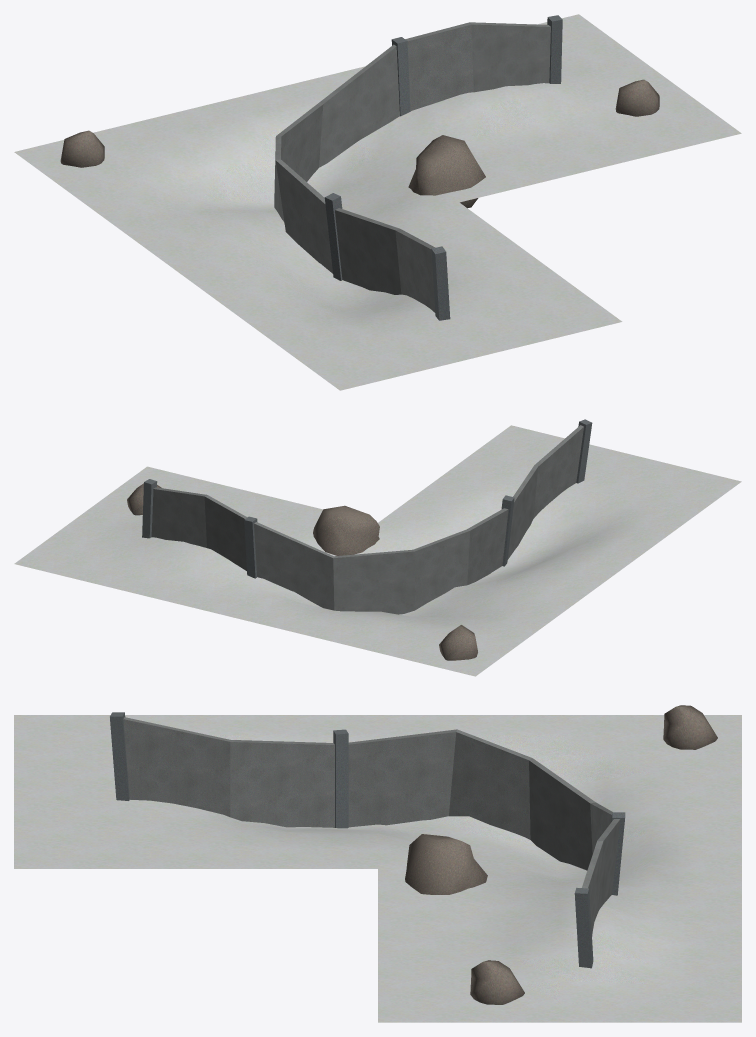
Rendered from corner_3.obj.
The picture shows the model from 3 angles, top to bottom: view 1: azimuth 30°, elevation 25°; view 2: azimuth 150°, elevation 25°; view 3: azimuth 270°, elevation 25°; orthographic projection. The views are drawn at different scales.
Parts seen in each view (by area): view 1: corner_3_Cube.013; view 2: corner_3_Cube.013; view 3: corner_3_Cube.013.
Boxes of the visible parts, x1=… form: corner_3_Cube.013: x1=14, y1=14, x2=741, y2=390; corner_3_Cube.013: x1=14, y1=419, x2=741, y2=676; corner_3_Cube.013: x1=14, y1=705, x2=741, y2=1022.
Bounding box in the file's own units: 1024 × 204 × 1024.
